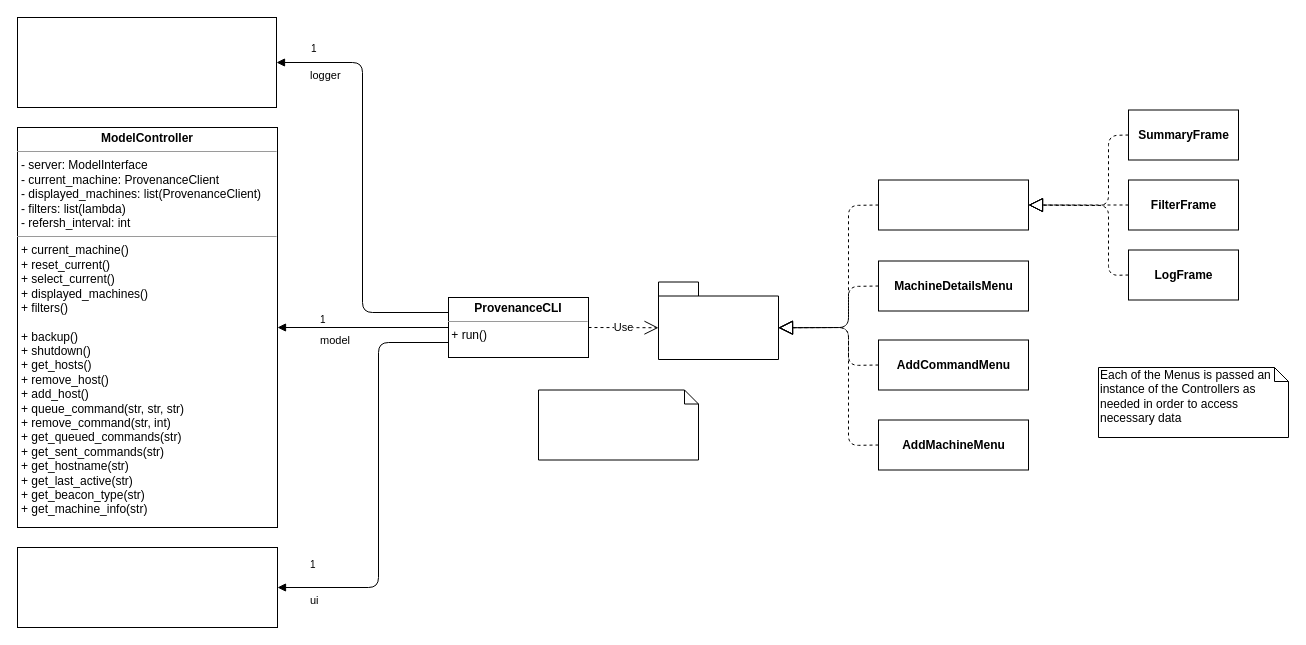
This 1306x645 diagram has some shape labels left out. The centre of each missing label's shape, as x and y in pixels:
asciimatics: the point at 718,320
LoggingController + log_level: int + get_messages(): the point at 146,62
MainMenu: the point at 953,204
The asciimatics package handles the rendering of each of the different menus.: the point at 618,424
UIController + theme: str + refresh_rate: int: the point at 147,587
